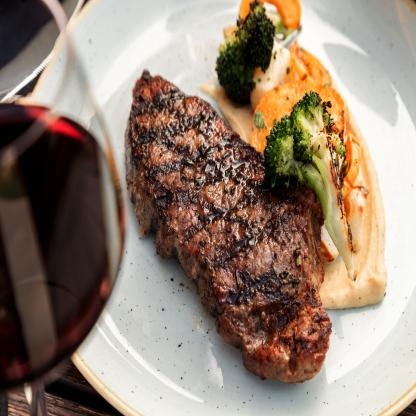Carne: (128, 55, 334, 388)
